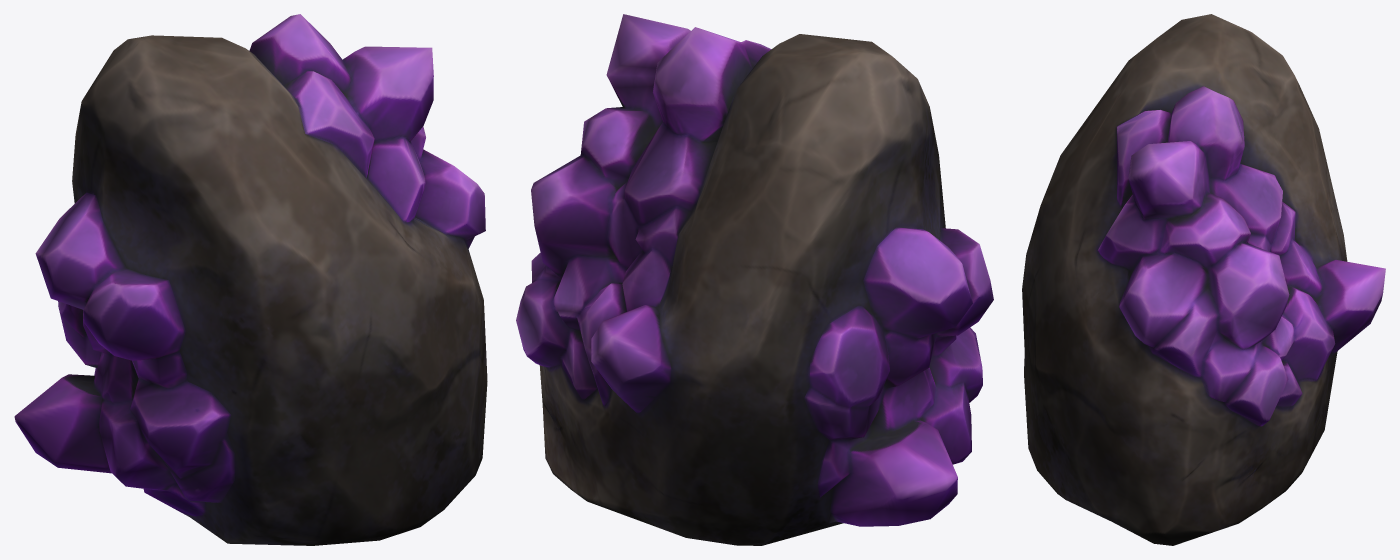
File: SM_Gem_Amethyst_001.fbx
3 renders of one model, left to right at view 1: azimuth 30°, elevation 25°; view 2: azimuth 150°, elevation 25°; view 3: azimuth 270°, elevation 25°, orthographic. The views are drawn at different scales.
Visible parts, largest first — view 1: SM_Gem_Amethyst_001; view 2: SM_Gem_Amethyst_001; view 3: SM_Gem_Amethyst_001.
Boxes of the visible parts, x1,y1,x2,y2 form: SM_Gem_Amethyst_001: (14, 14, 487, 545); SM_Gem_Amethyst_001: (516, 14, 993, 545); SM_Gem_Amethyst_001: (1022, 14, 1385, 545).
Bounding box in the file's own units: 67.71 × 74.36 × 58.78.
